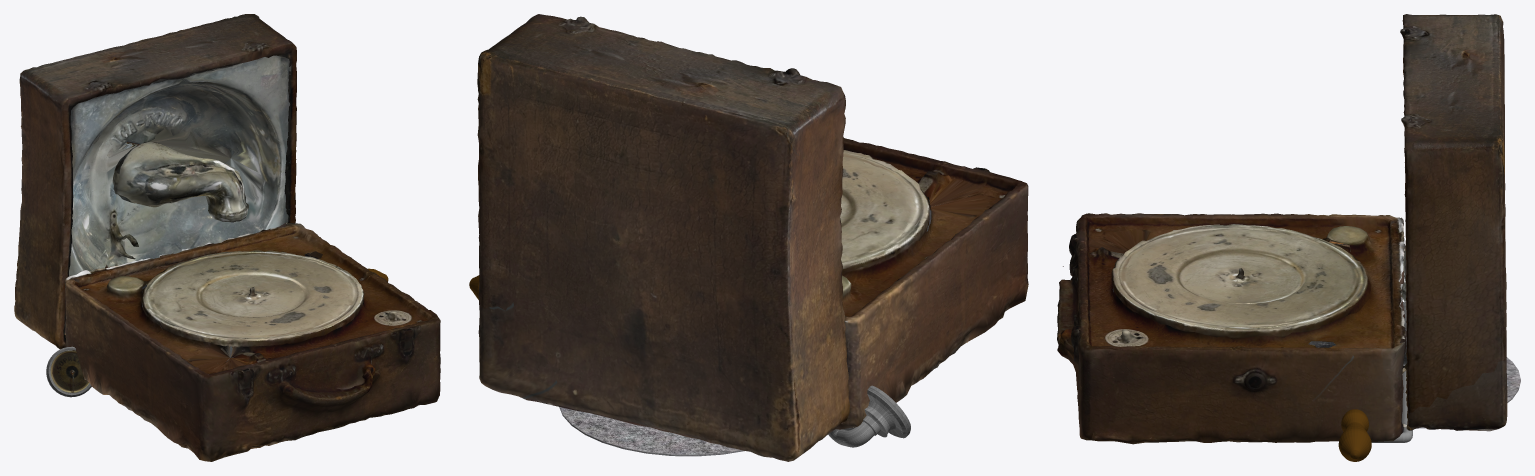
File: gramophone.glb
The picture shows the model from 3 angles, left to right: view 1: azimuth 30°, elevation 25°; view 2: azimuth 150°, elevation 25°; view 3: azimuth 270°, elevation 25°; orthographic projection. The views are drawn at different scales.
Parts seen in each view (by area): view 1: Base, Lid, Tonearm; view 2: Lid, Base, Filter, Tonearm; view 3: Base, Lid, Crank, Filter.
Boxes of the visible parts, <box> form: Base: <box>64,222,440,461</box>; Lid: <box>14,14,296,349</box>; Tonearm: <box>46,346,91,397</box>; Lid: <box>477,14,849,461</box>; Base: <box>836,138,1028,429</box>; Filter: <box>559,407,744,456</box>; Tonearm: <box>828,385,910,447</box>; Base: <box>1057,213,1405,444</box>; Lid: <box>1400,14,1507,431</box>; Crank: <box>1338,371,1412,461</box>; Filter: <box>1403,357,1520,428</box>.
Size of the model in its own units: 0.4298 by 0.3506 by 0.4471.
Materials: 9 (7 with a texture image).
